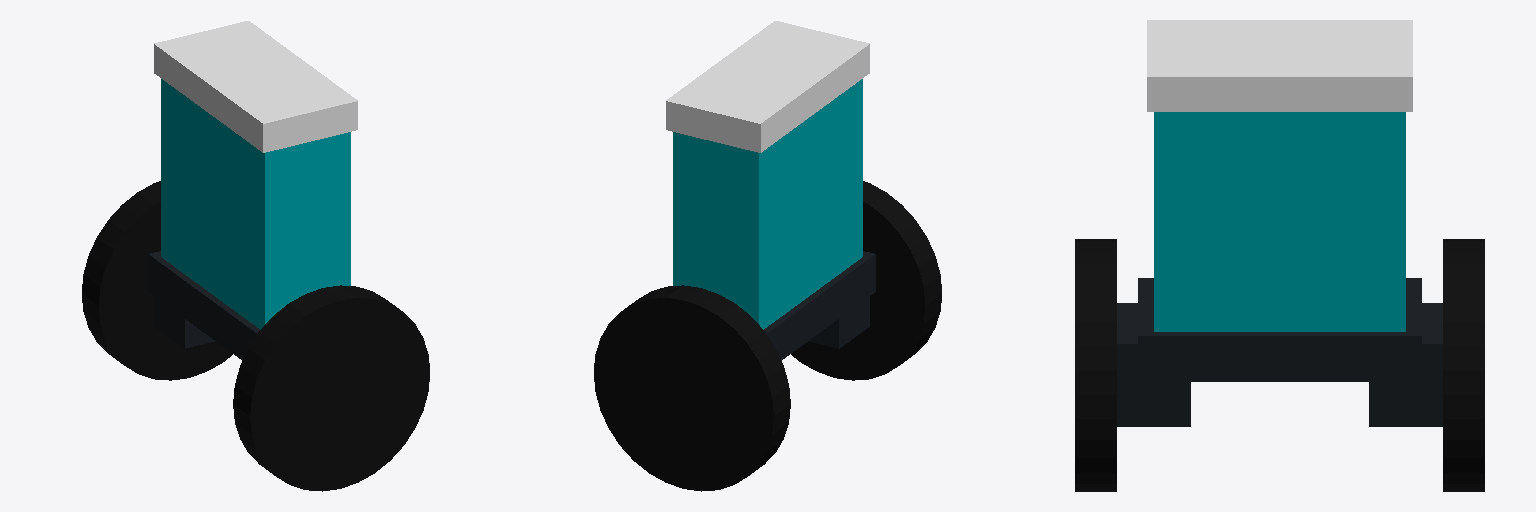
robot.urdf — pybot:
<?xml version="1.0"?>
<!--
  2PyBot simplified URDF - matches the geometry of
  models/2pybot_simplified.step (1 CAD unit = 100 mm).
  Z-up, X forward. Axle line at z = wheel radius.
-->
<robot name="pybot">

  <material name="teal">
    <color rgba="0.0 0.68 0.71 1.0"/>
  </material>
  <material name="dark">
    <color rgba="0.14 0.16 0.18 1.0"/>
  </material>
  <material name="light">
    <color rgba="0.93 0.93 0.93 1.0"/>
  </material>
  <material name="black">
    <color rgba="0.1 0.1 0.1 1.0"/>
  </material>

  <!-- ================= BASE ================= -->
  <link name="base_link">
    <!-- Lower frame -->
    <visual>
      <origin xyz="0 0 0.017" rpy="0 0 0"/>
      <geometry>
        <box size="0.060 0.124 0.022"/>
      </geometry>
      <material name="dark"/>
    </visual>
    <!-- Main body -->
    <visual>
      <origin xyz="0 0 0.0815" rpy="0 0 0"/>
      <geometry>
        <box size="0.052 0.110 0.107"/>
      </geometry>
      <material name="teal"/>
    </visual>
    <!-- Sensor deck -->
    <visual>
      <origin xyz="0 0 0.1435" rpy="0 0 0"/>
      <geometry>
        <box size="0.058 0.116 0.017"/>
      </geometry>
      <material name="light"/>
    </visual>
    <collision>
      <origin xyz="0 0 0.08" rpy="0 0 0"/>
      <geometry>
        <box size="0.062 0.124 0.150"/>
      </geometry>
    </collision>
    <inertial>
      <origin xyz="0 0 0.08" rpy="0 0 0"/>
      <mass value="0.9"/>
      <inertia ixx="0.0025" ixy="0" ixz="0" iyy="0.0025" iyz="0" izz="0.0012"/>
    </inertial>
  </link>

  <!-- ================= IMU ================= -->
  <link name="imu_link"/>
  <joint name="imu_joint" type="fixed">
    <parent link="base_link"/>
    <child link="imu_link"/>
    <origin xyz="0 0 0.14" rpy="0 0 0"/>
  </joint>

  <!-- ================= MOTORS (visual only) ================= -->
  <link name="left_motor_link">
    <visual>
      <origin xyz="0 0.020 0" rpy="1.5708 0 0"/>
      <geometry>
        <box size="0.0423 0.040 0.0423"/>
      </geometry>
      <material name="dark"/>
    </visual>
  </link>
  <joint name="left_motor_joint" type="fixed">
    <parent link="base_link"/>
    <child link="left_motor_link"/>
    <origin xyz="0 0.040 0" rpy="0 0 0"/>
  </joint>

  <link name="right_motor_link">
    <visual>
      <origin xyz="0 -0.020 0" rpy="1.5708 0 0"/>
      <geometry>
        <box size="0.0423 0.040 0.0423"/>
      </geometry>
      <material name="dark"/>
    </visual>
  </link>
  <joint name="right_motor_joint" type="fixed">
    <parent link="base_link"/>
    <child link="right_motor_link"/>
    <origin xyz="0 -0.040 0" rpy="0 0 0"/>
  </joint>

  <!-- ================= WHEELS ================= -->
  <link name="left_wheel_link">
    <visual>
      <origin xyz="0 0 0" rpy="1.5708 0 0"/>
      <geometry>
        <cylinder radius="0.055" length="0.018"/>
      </geometry>
      <material name="black"/>
    </visual>
    <collision>
      <origin xyz="0 0 0" rpy="1.5708 0 0"/>
      <geometry>
        <cylinder radius="0.055" length="0.018"/>
      </geometry>
    </collision>
    <inertial>
      <mass value="0.05"/>
      <inertia ixx="4e-5" ixy="0" ixz="0" iyy="4e-5" iyz="0" izz="7.6e-5"/>
    </inertial>
  </link>
  <joint name="left_wheel_joint" type="continuous">
    <parent link="base_link"/>
    <child link="left_wheel_link"/>
    <origin xyz="0 0.080 0" rpy="0 0 0"/>
    <axis xyz="0 1 0"/>
  </joint>

  <link name="right_wheel_link">
    <visual>
      <origin xyz="0 0 0" rpy="1.5708 0 0"/>
      <geometry>
        <cylinder radius="0.055" length="0.018"/>
      </geometry>
      <material name="black"/>
    </visual>
    <collision>
      <origin xyz="0 0 0" rpy="1.5708 0 0"/>
      <geometry>
        <cylinder radius="0.055" length="0.018"/>
      </geometry>
    </collision>
    <inertial>
      <mass value="0.05"/>
      <inertia ixx="4e-5" ixy="0" ixz="0" iyy="4e-5" iyz="0" izz="7.6e-5"/>
    </inertial>
  </link>
  <joint name="right_wheel_joint" type="continuous">
    <parent link="base_link"/>
    <child link="right_wheel_link"/>
    <origin xyz="0 -0.080 0" rpy="0 0 0"/>
    <axis xyz="0 1 0"/>
  </joint>

</robot>

--- Render facts (derived) ---
3 views of the same robot in one strip: view 1: azimuth 30°, elevation 25°; view 2: azimuth 150°, elevation 25°; view 3: azimuth 270°, elevation 25° (orthographic).
Robot: pybot — 6 links, 5 joints (2 continuous, 3 fixed); root link base_link; default pose: every joint at zero.
Links seen in each view (by area): view 1: base_link, right_wheel_link, left_wheel_link, left_motor_link; view 2: base_link, left_wheel_link, right_wheel_link, right_motor_link; view 3: base_link, left_wheel_link, right_wheel_link, left_motor_link, right_motor_link.
Link boxes in pixels (x1=…): base_link: x1=148, y1=21, x2=357, y2=360; right_wheel_link: x1=233, y1=285, x2=429, y2=491; left_wheel_link: x1=82, y1=181, x2=232, y2=380; left_motor_link: x1=154, y1=296, x2=214, y2=348; base_link: x1=666, y1=21, x2=875, y2=360; left_wheel_link: x1=594, y1=285, x2=790, y2=491; right_wheel_link: x1=791, y1=181, x2=941, y2=380; right_motor_link: x1=809, y1=296, x2=869, y2=348; base_link: x1=1138, y1=20, x2=1421, y2=381; left_wheel_link: x1=1443, y1=239, x2=1484, y2=491; right_wheel_link: x1=1075, y1=239, x2=1116, y2=491; left_motor_link: x1=1369, y1=303, x2=1442, y2=426; right_motor_link: x1=1117, y1=303, x2=1190, y2=426.
Bounding box of the posed robot: 0.11 × 0.178 × 0.207 m (x, y, z).
Geometry: primitives only (box / cylinder / sphere), no mesh files.
